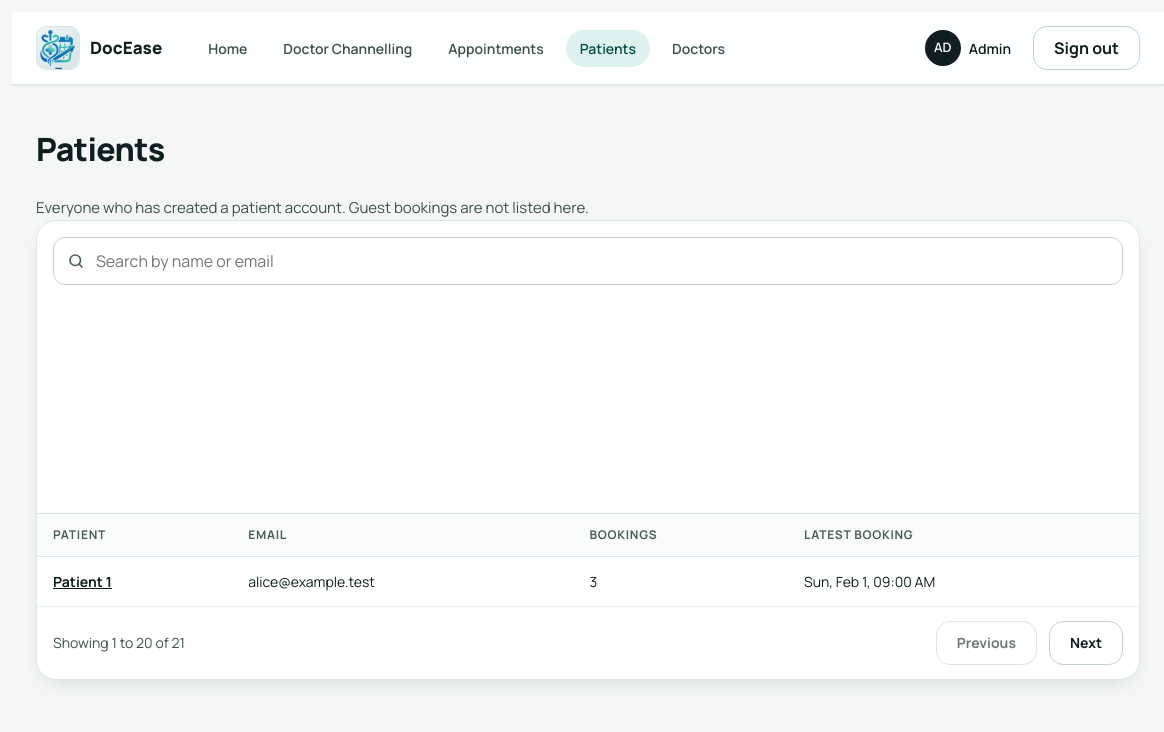
it: patient list › pages through the list
Expected: the link "Patient 1" is shown, [53,572,112,590]
Expected: the button "Previous" is disabled, [936,620,1037,664]
Click the button "Next".
click(1086, 642)  # box [1049,620,1123,664]
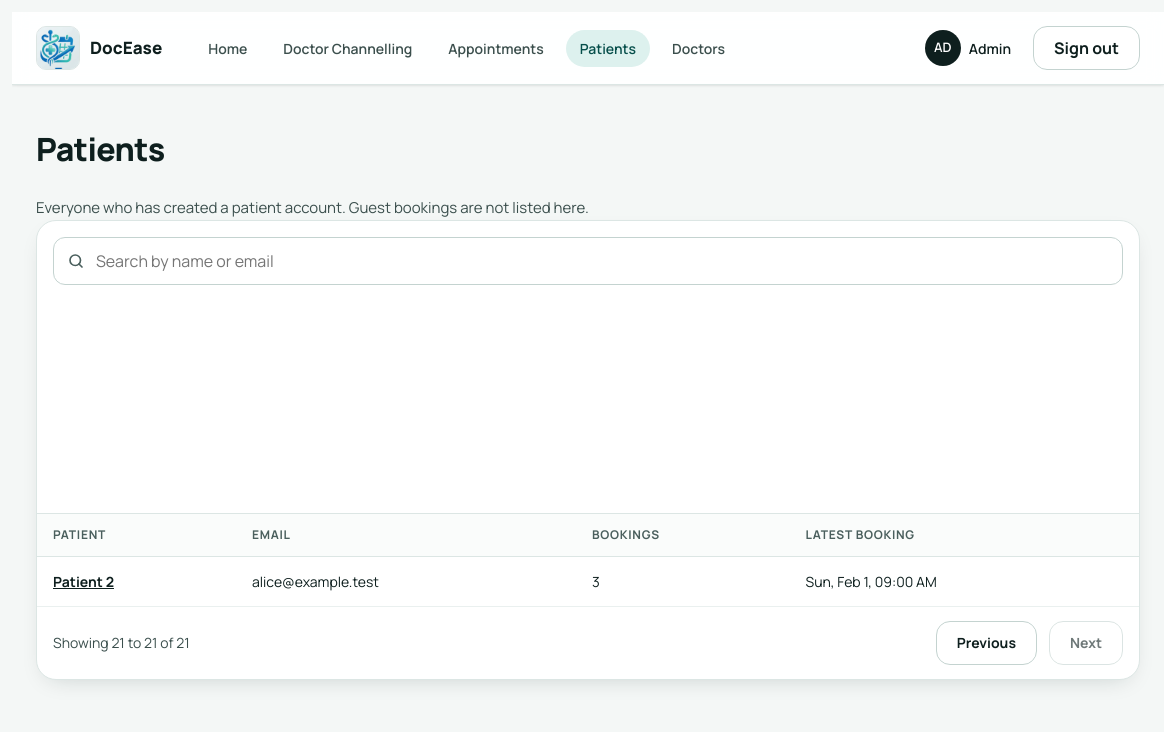
Result: the link "Patient 2" is shown at [53,572,114,590]
Result: the button "Next" is disabled at [1049,620,1123,664]
